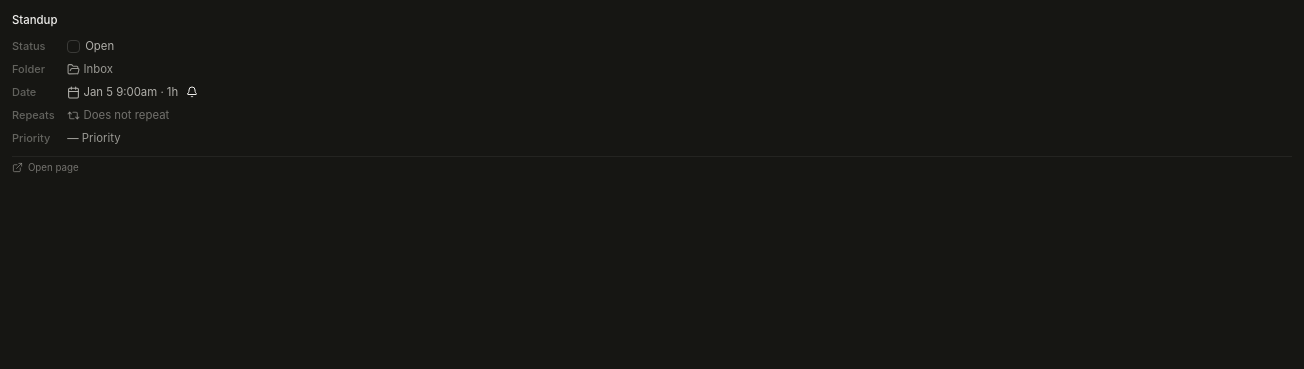
Test case: PageBlockPopover — reminder bell › offers lead times on a timed page
Press the mouse on the button named "Page reminders" at (192,92), box [186,86,198,98]
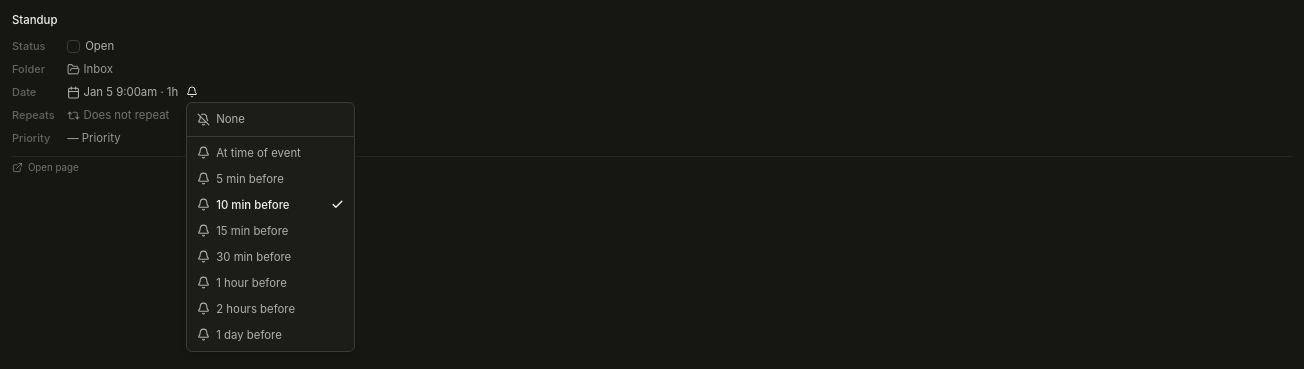
Check: the menu item "10 min before" is shown, box [197,198,344,212]
